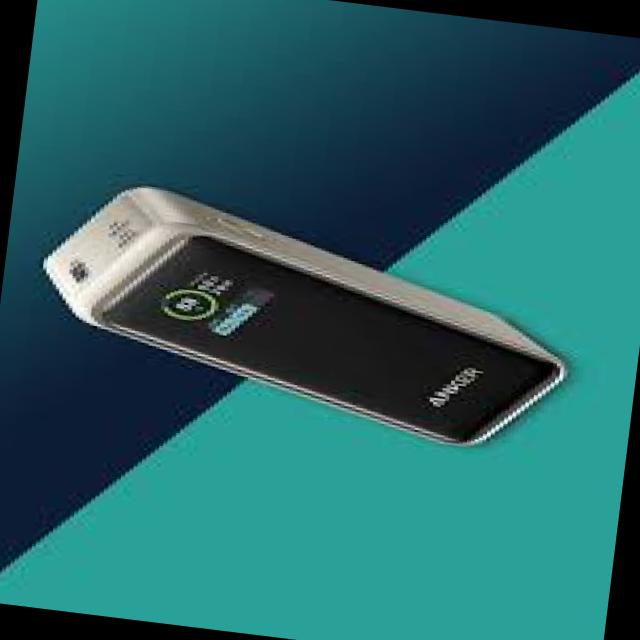power_bank: (25, 168, 592, 462)
